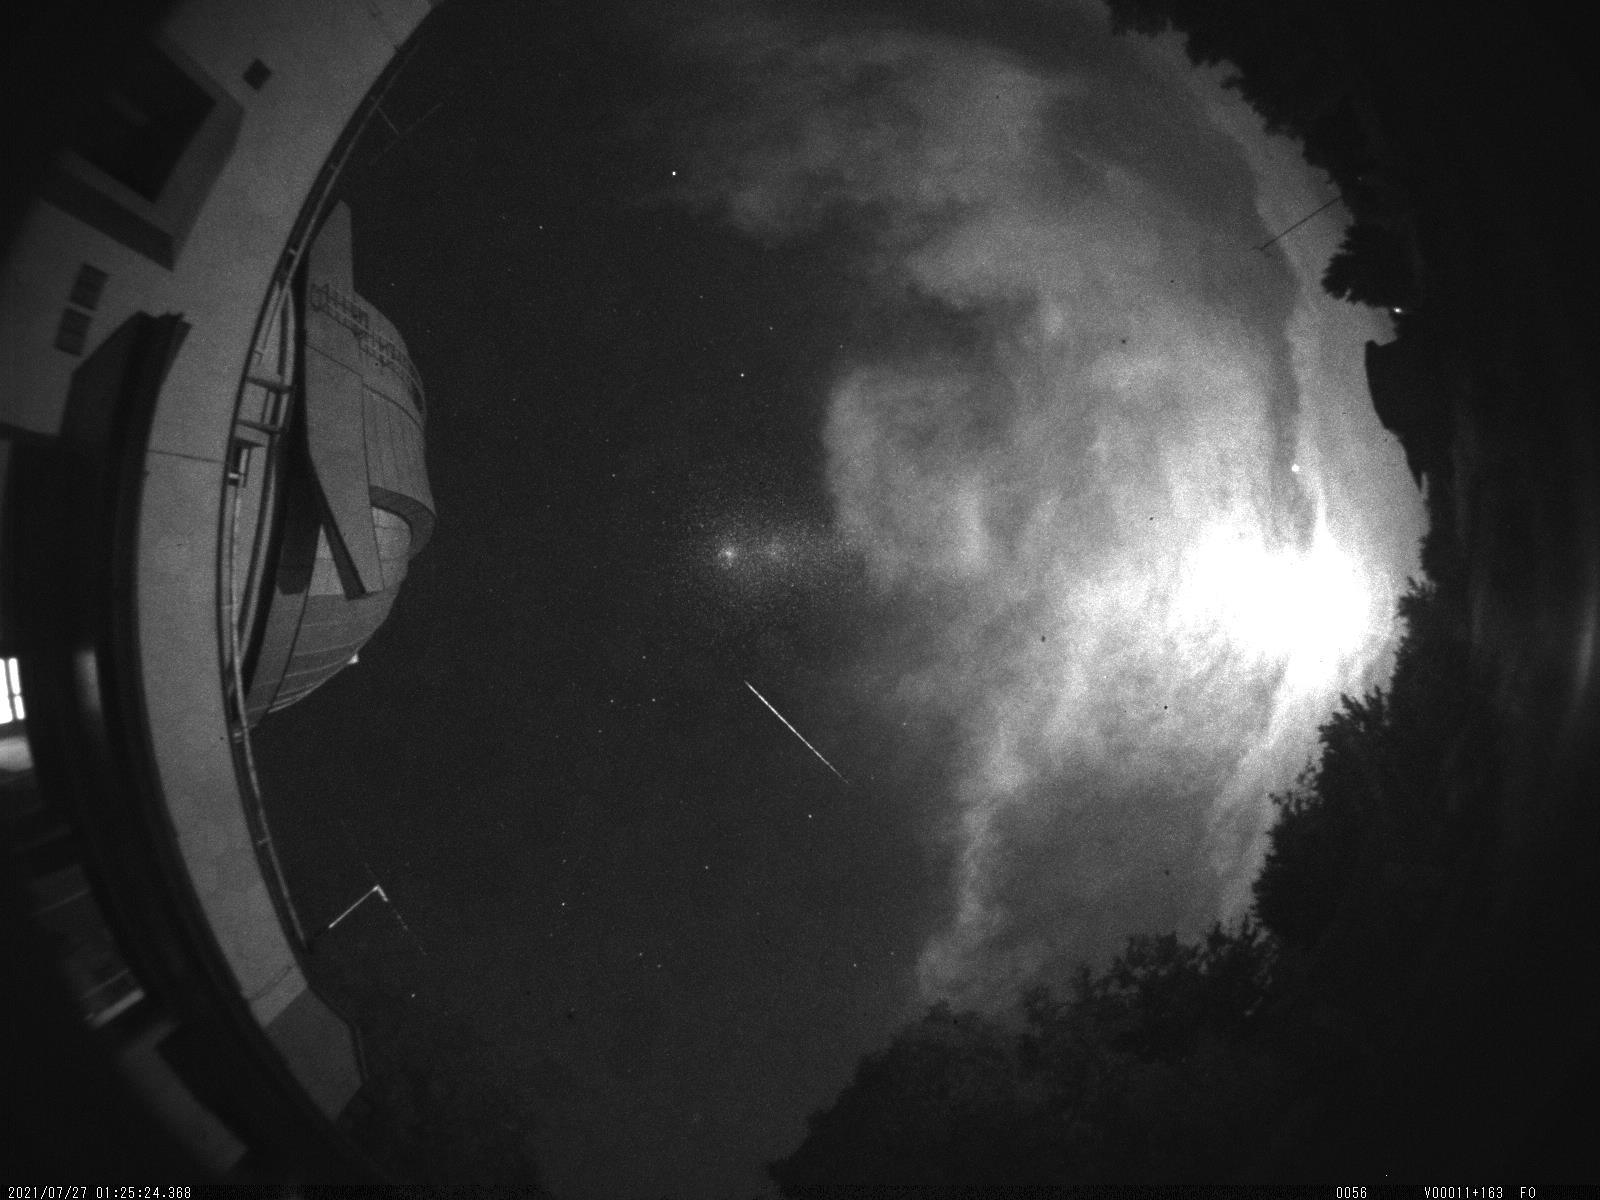Meteor: (734, 672, 855, 800)
